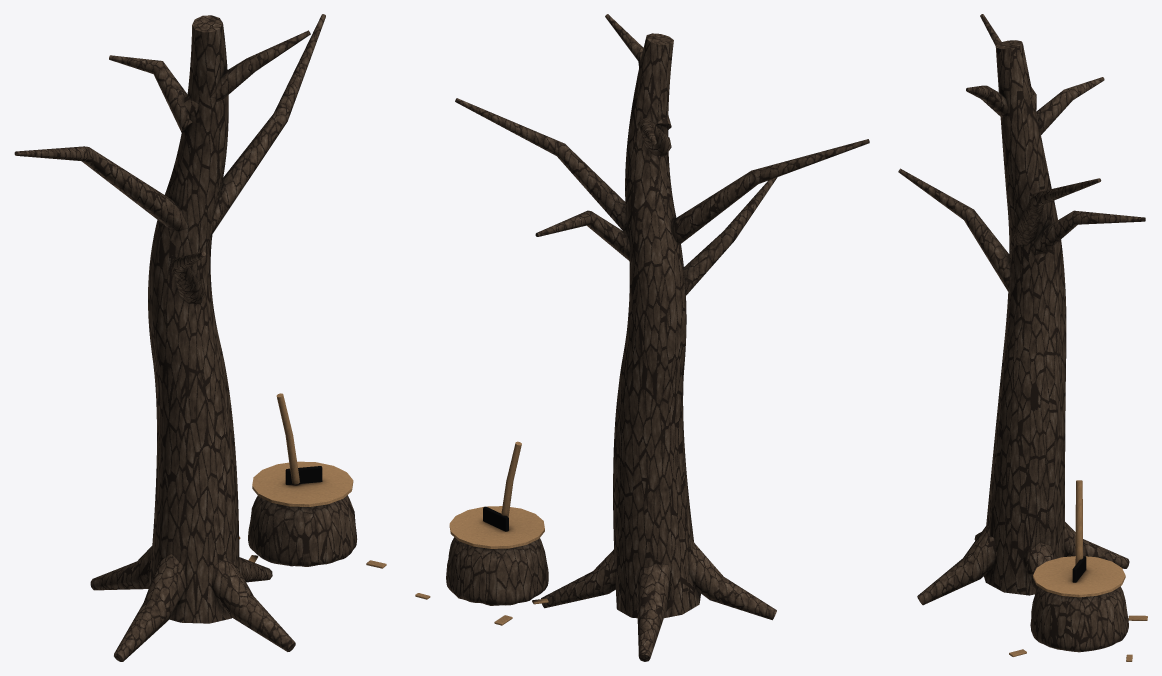
File: cenario_arvore_tabua.glb
3 renders of one model, left to right at view 1: azimuth 30°, elevation 25°; view 2: azimuth 150°, elevation 25°; view 3: azimuth 270°, elevation 25°, orthographic. The views are drawn at different scales.
Parts seen in each view (by area): view 1: cenario_arvore_tabua_tronco; view 2: cenario_arvore_tabua_tronco; view 3: cenario_arvore_tabua_tronco.
Boxes of the visible parts, left/top/right/bottom form: cenario_arvore_tabua_tronco: left=14, top=14, right=386, bottom=661; cenario_arvore_tabua_tronco: left=415, top=14, right=869, bottom=661; cenario_arvore_tabua_tronco: left=898, top=14, right=1147, bottom=661.
Bounding box in the file's own units: 2.98 × 4.31 × 1.78.
1 material, 1 textured.
